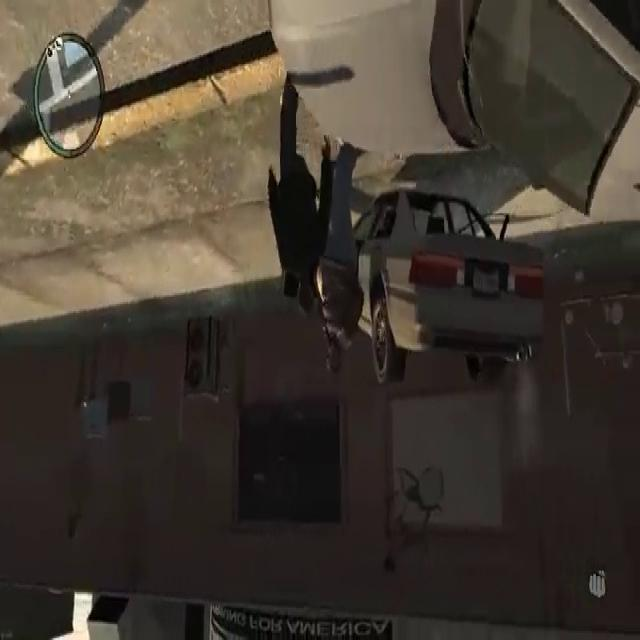severe: (310, 177, 551, 402)
